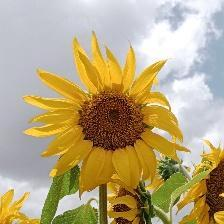sunflower: (19, 27, 195, 201)
